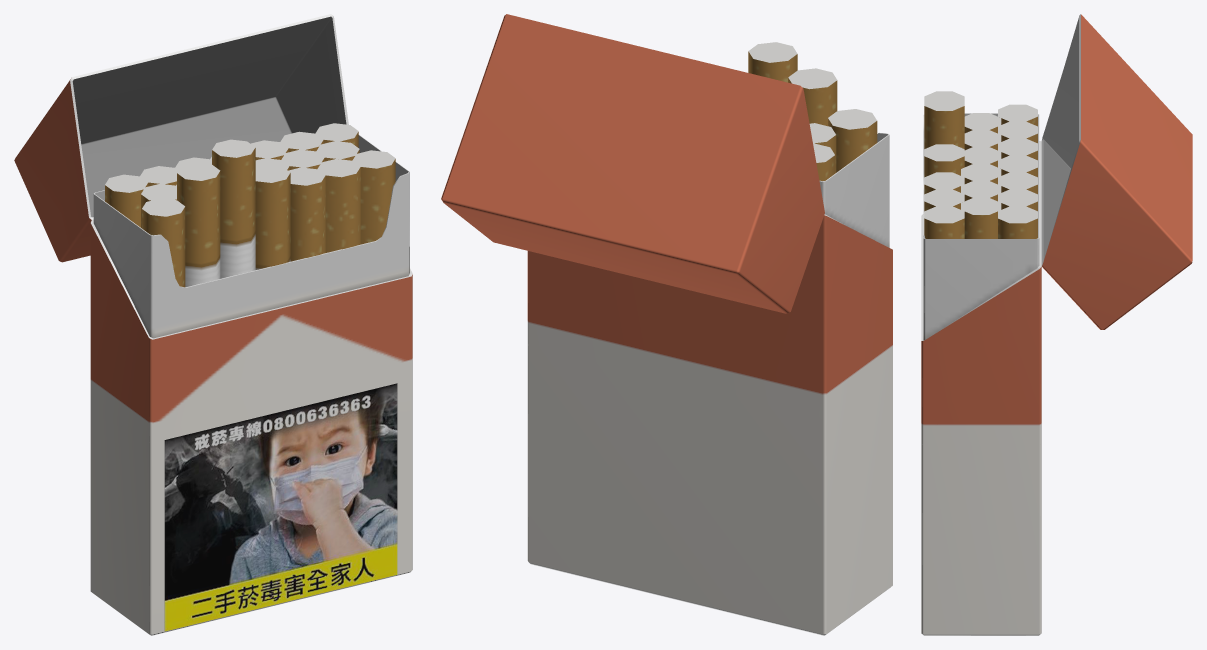
The model's file is Cigarette.gltf.
3 renders of one model, left to right at view 1: azimuth 30°, elevation 25°; view 2: azimuth 150°, elevation 25°; view 3: azimuth 270°, elevation 25°, orthographic. The views are drawn at different scales.
Parts seen in each view (by area): view 1: Cigarette; view 2: Cigarette; view 3: Cigarette.
Part boxes in pixels (bbox=[...]): Cigarette: bbox=[14, 14, 412, 635]; Cigarette: bbox=[441, 14, 892, 635]; Cigarette: bbox=[921, 14, 1192, 635].
Bounding box in the file's own units: 0.5343 × 0.9692 × 0.4801.
1 material, 1 textured.
